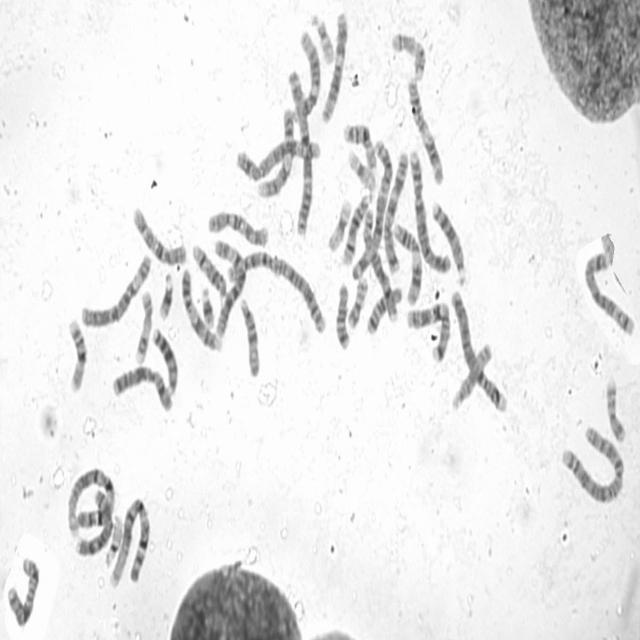A1: (66, 462, 116, 560), (107, 494, 152, 588)
A2: (219, 246, 328, 336), (560, 423, 626, 506)
A3: (349, 138, 394, 284), (287, 66, 314, 240)
B4: (450, 285, 510, 417), (407, 146, 452, 276)
B5: (581, 248, 637, 338), (234, 136, 322, 186)
C10: (130, 202, 188, 268), (207, 208, 270, 248)
C11: (406, 74, 444, 186), (391, 218, 424, 308)
C12: (287, 24, 323, 124), (319, 9, 349, 126)
C6: (78, 250, 153, 330), (211, 235, 247, 338)
C7: (381, 147, 410, 276), (404, 298, 451, 365)
C8: (361, 207, 400, 325), (74, 488, 114, 557)
C9: (179, 266, 224, 354), (255, 106, 296, 200)
D13: (430, 198, 467, 288), (150, 322, 179, 398)
D14: (341, 188, 373, 267), (190, 240, 227, 300)
D15: (449, 337, 494, 413), (238, 293, 261, 379)
E16: (341, 119, 377, 173), (66, 313, 88, 395)
E17: (390, 28, 428, 82), (133, 288, 154, 366)
E18: (364, 282, 404, 337), (334, 279, 352, 352)
F19: (326, 195, 352, 252), (346, 146, 376, 192)
F20: (603, 376, 627, 443), (344, 272, 370, 332)
G21: (157, 268, 175, 321), (200, 284, 215, 330)
G22: (309, 11, 335, 66), (103, 512, 123, 570)
X: (110, 363, 174, 414), (4, 550, 42, 630)
